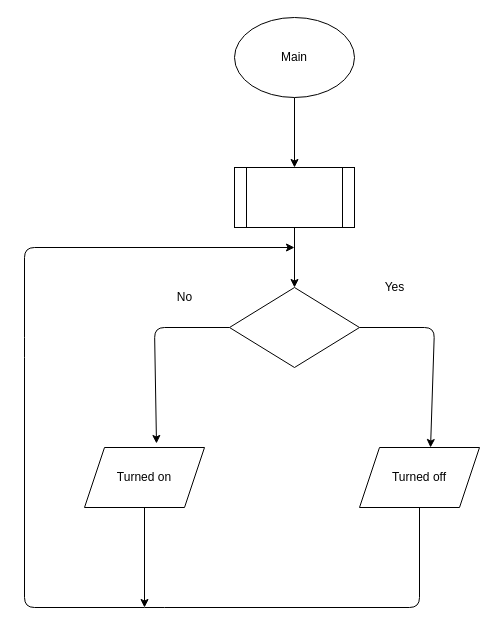
Image size: 497x633. Some labels were removed from this diagram. The shapes that lost their labels are listed below. From the top down, each one's centre as x and y in pixels, then its label:
At (x=294, y=197): "PinMux".
At (x=294, y=327): "SW1 pressed?".
